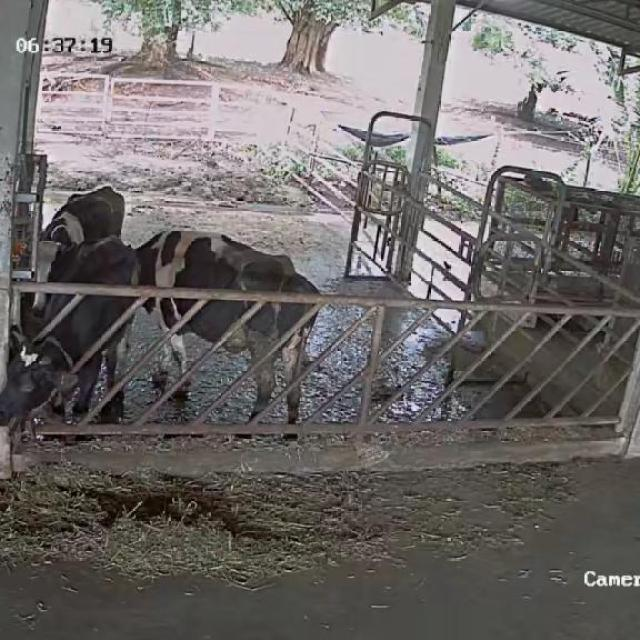feeding: (0, 232, 137, 444)
standing: (142, 228, 317, 423), (24, 182, 119, 318)
